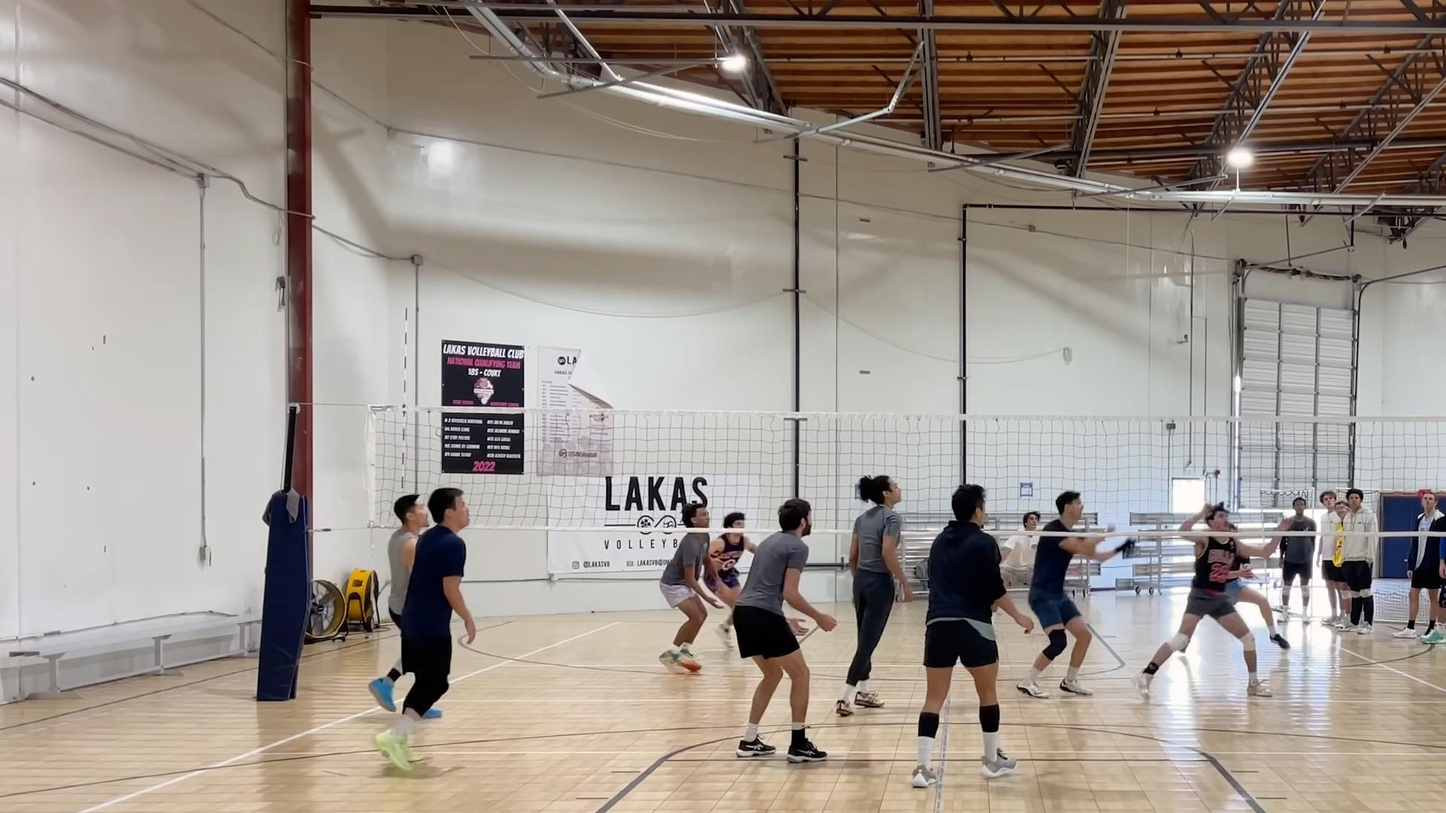Player: (912, 484, 1033, 787), (374, 488, 475, 770), (734, 499, 835, 762), (1136, 504, 1271, 699), (1017, 492, 1118, 698), (835, 476, 912, 716), (658, 502, 724, 672), (705, 512, 755, 642), (387, 495, 426, 633), (1226, 579, 1289, 648), (1000, 534, 1036, 586)
